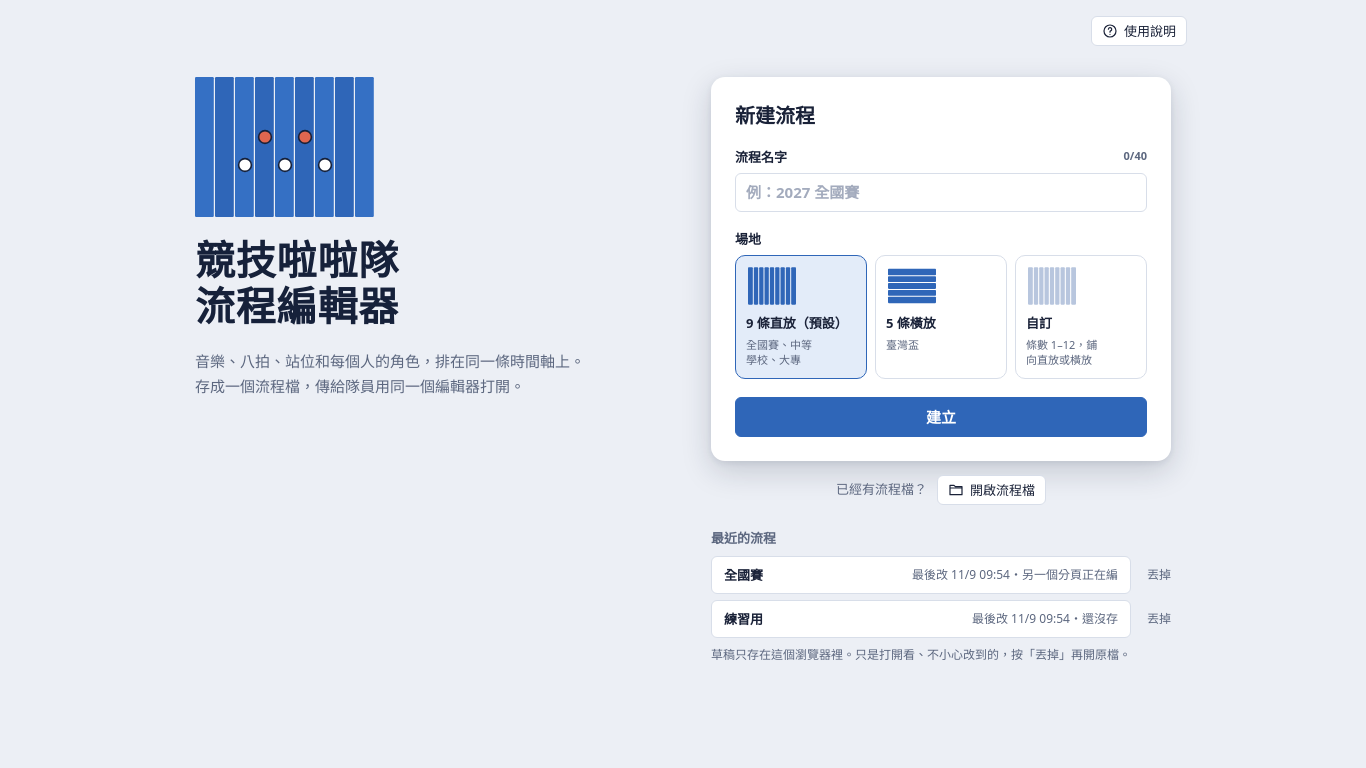
it: 首頁：最近的流程 › 丟掉一支：寫「已丟掉」；另一個分頁正在編的丟不掉，說為什麼
Click the button with aria-label "丟掉「練習用」": click(1159, 619) [1147,609,1171,629]
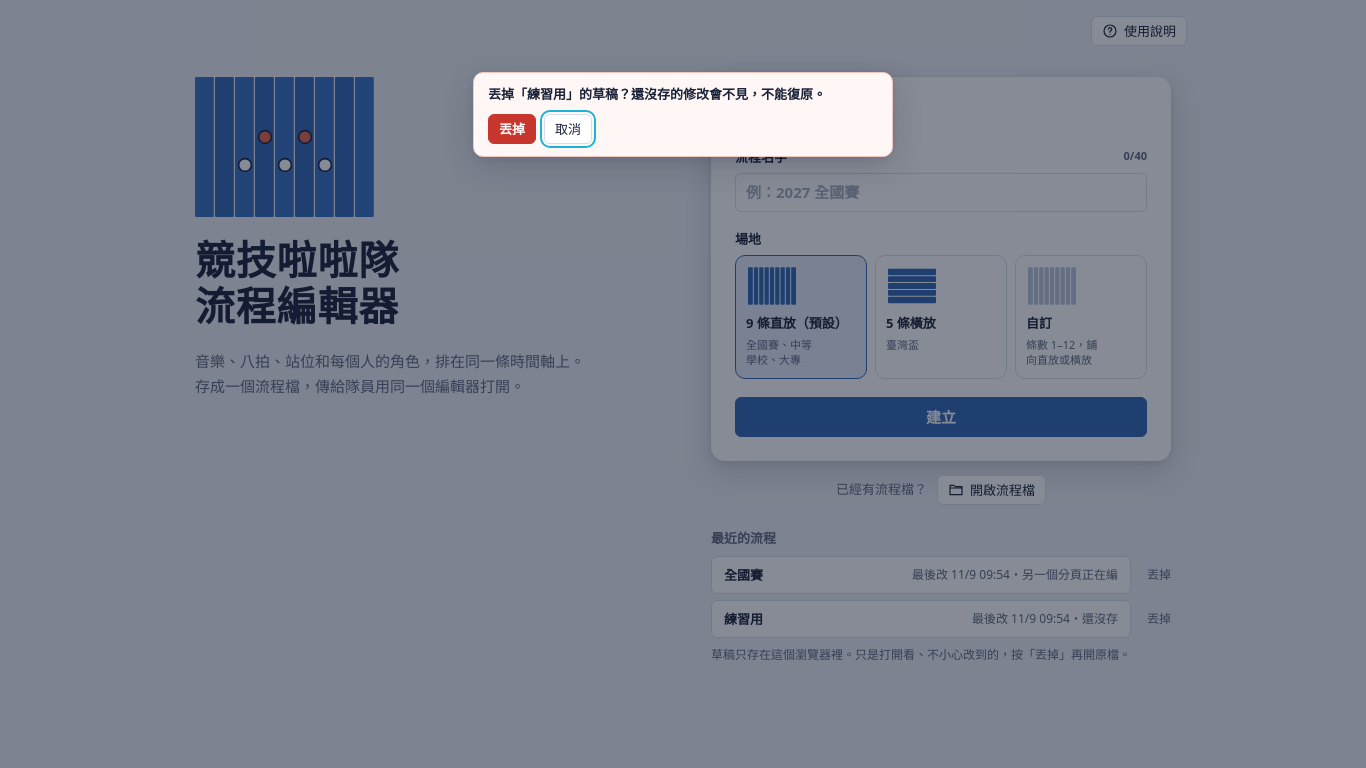
Click the button "丟掉": click(512, 129) [488,114,536,144]
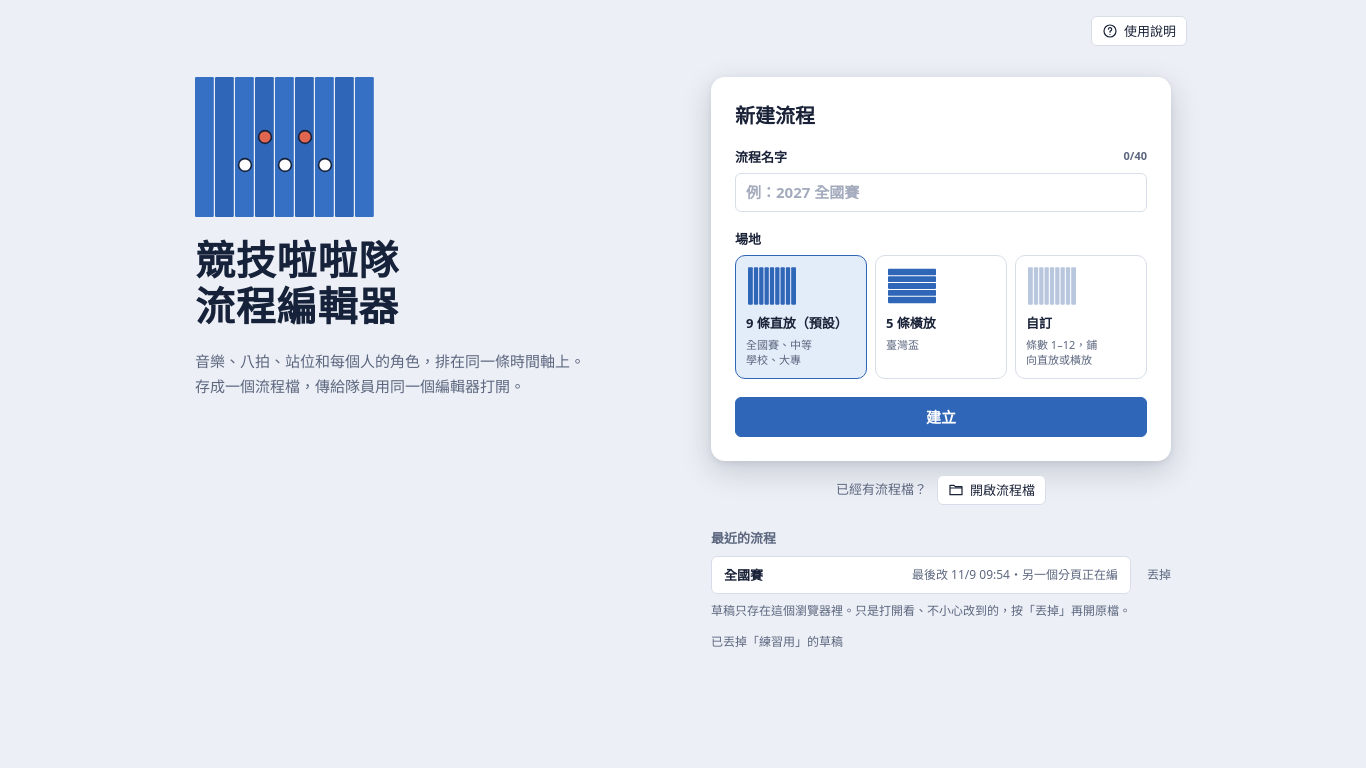
Check: the message shows "已丟掉「練習用」", box [711,633,843,650]
Click the button with aria-label "丟掉「全國賽」": click(1159, 575) [1147,565,1171,585]
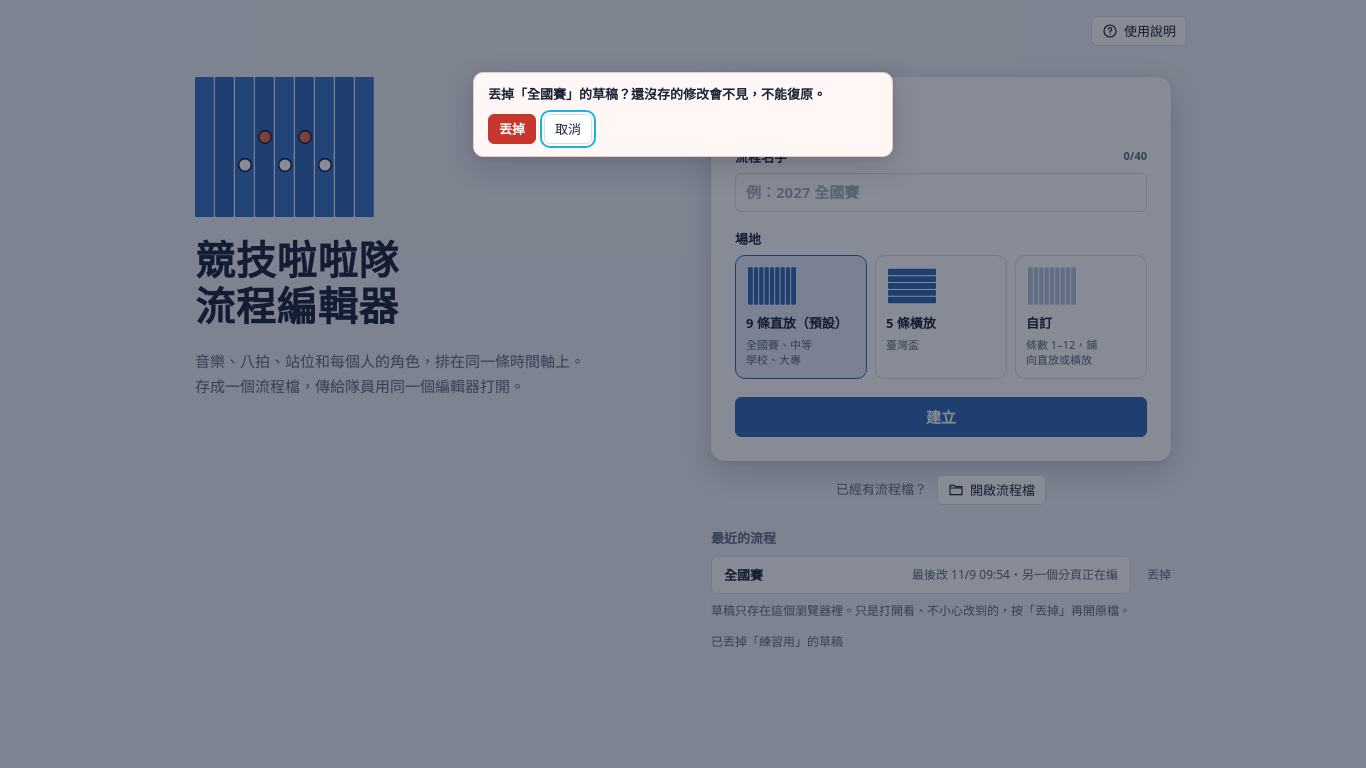
Click the button "丟掉": click(512, 129) [488,114,536,144]
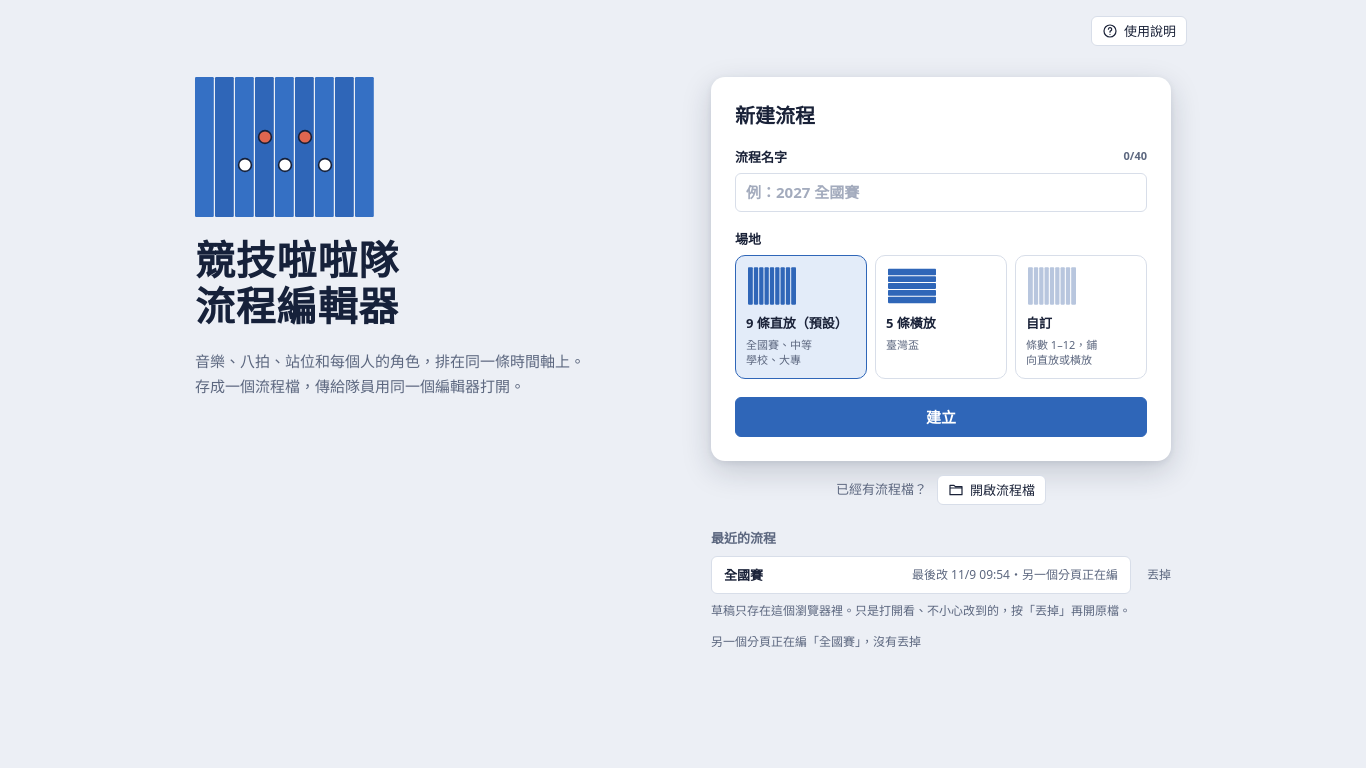
Check: the button "全國賽 最後改 11/9 09:54・另一個分頁正在編" is shown, box [711,556,1131,594]
Check: the message reads "另一個分頁正在編「全國賽」，沒有丟掉", box [711,633,921,650]
